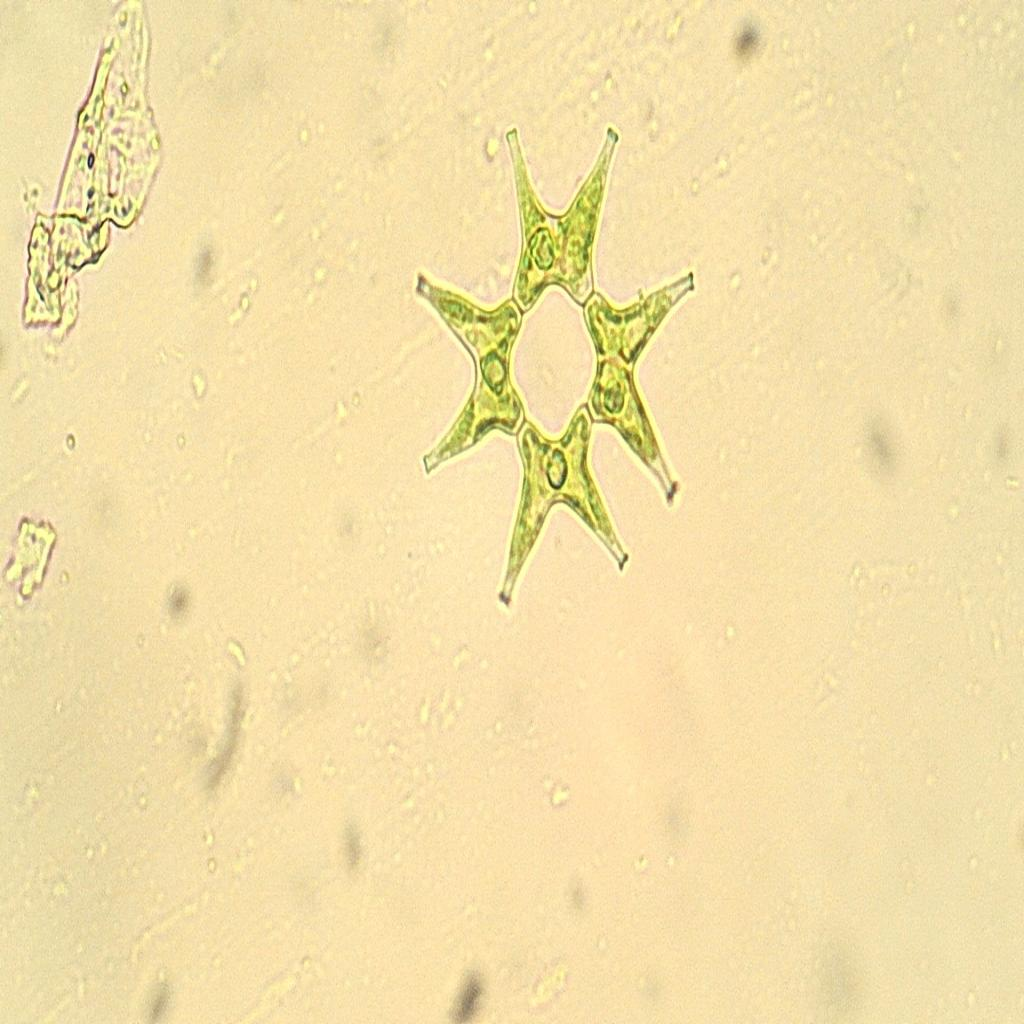Pediastrum_CO: (410, 115, 726, 621)
